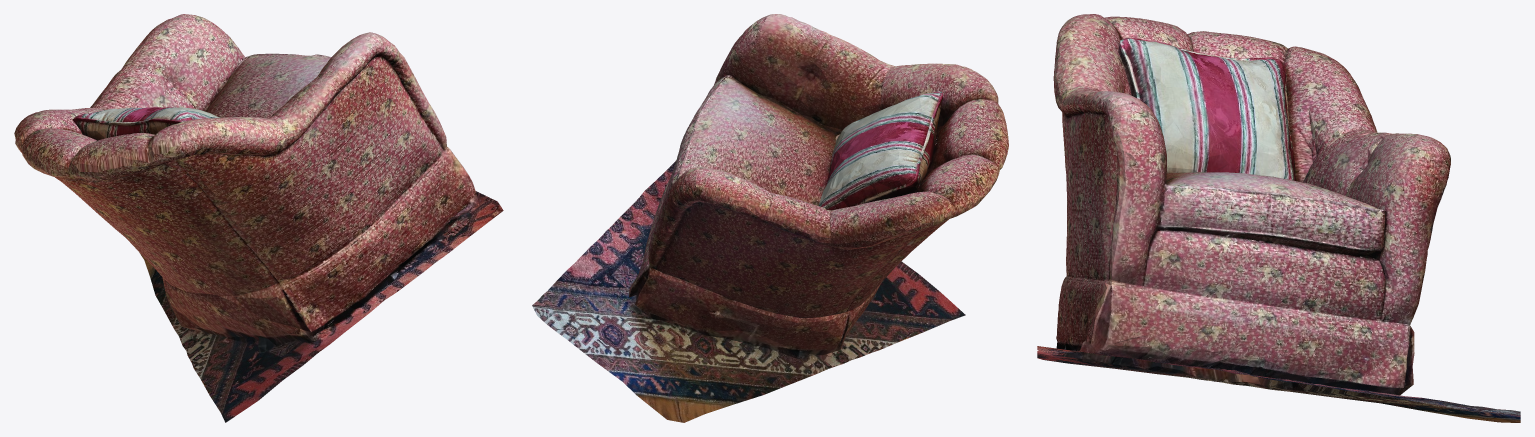
The model's file is Feb 1, 01_09 PM (1) - Adaptive ΓÇó 1% ΓÇó 1k.fbx.
3 views of the same model, side by side, from view 1: azimuth 30°, elevation 25°; view 2: azimuth 150°, elevation 25°; view 3: azimuth 270°, elevation 25° (orthographic). The views are drawn at different scales.
Bounding box in the file's own units: 1.68 × 1.32 × 1.6.
1 material, 1 textured.
